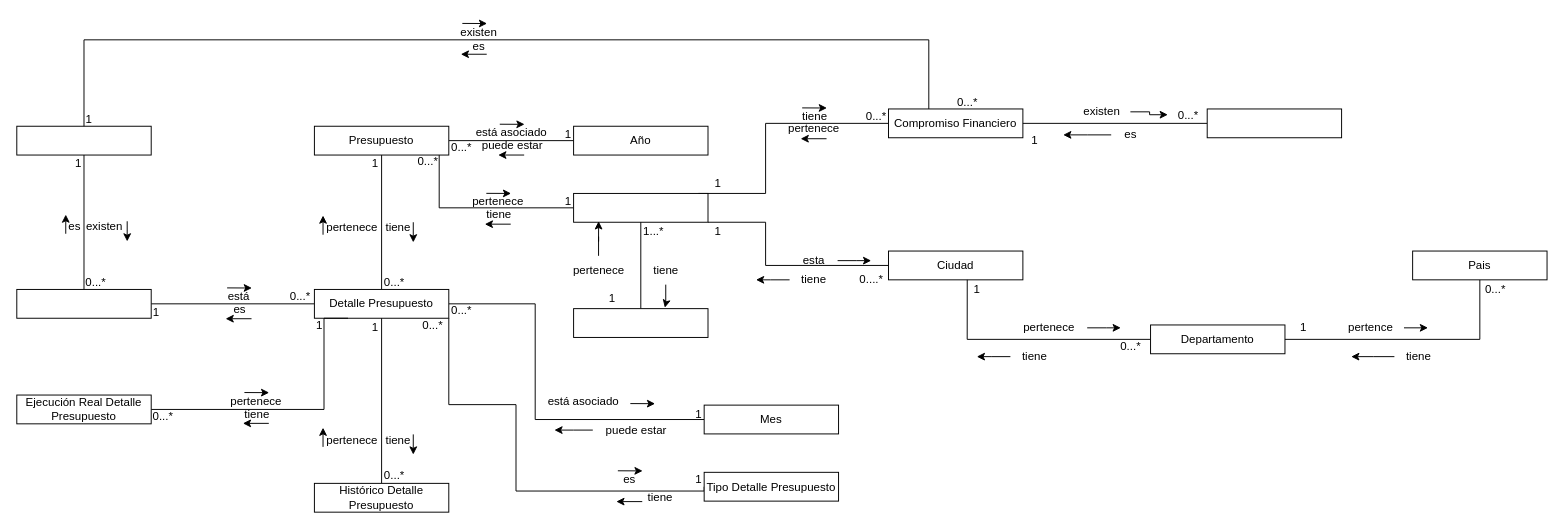
This 1564x530 diagram has some shape labels left out. The box of each missing label's shape, as (x1, y1, x2, y2) in pixels:
Persona: (573, 192, 708, 222)
Rubro: (16, 288, 151, 318)
Tipo Compromiso Financiero: (1206, 108, 1342, 138)
Tipo identificacion: (573, 308, 708, 337)
Tipo Rubro: (16, 125, 151, 155)
